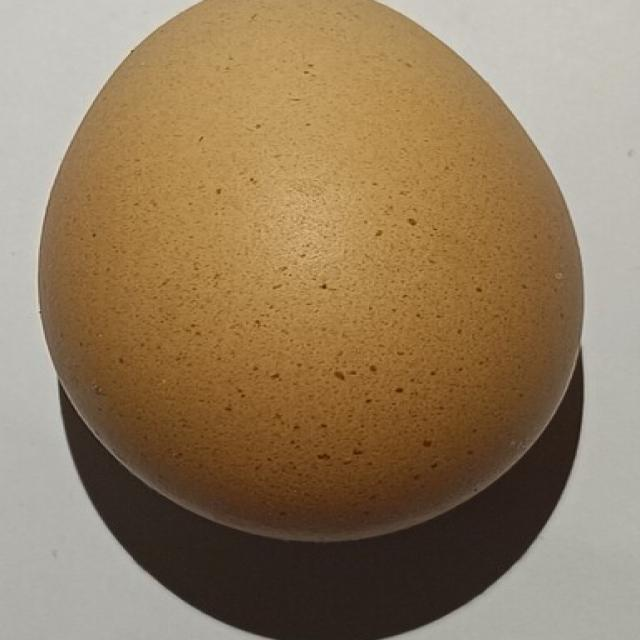unfresh: (20, 0, 588, 555)
